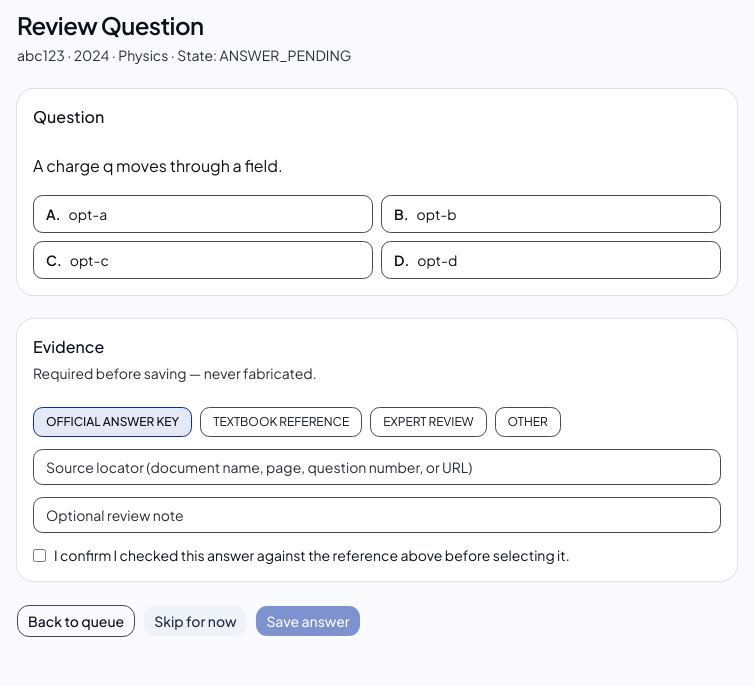
Test: PyqAnswerReviewDetailPage › requires selecting an option and confirming source consultation before Save is enabled
The width and height of the screenshot is (755, 686).
Expected: the button with test id "option-A" is shown, [33, 195, 373, 233]
Expected: the button with test id "review-save-button" is disabled, [256, 605, 361, 637]
Click the button with test id "option-B". click: (437, 214)
box: [381, 195, 721, 233]
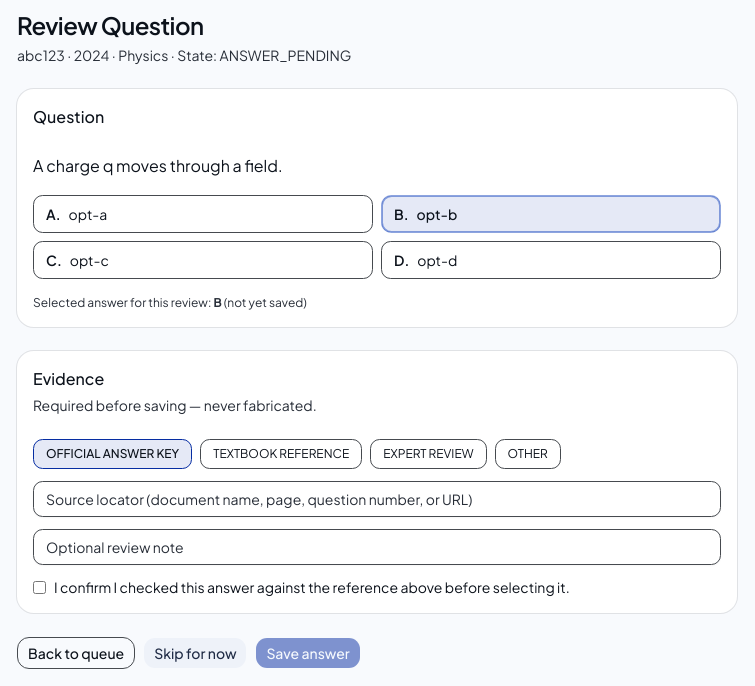
Expected: the button with test id "review-save-button" is disabled, [256, 637, 361, 669]
Click the checkbox with test id "source-consulted-checkbox". click: (40, 587)
box: [33, 580, 46, 594]
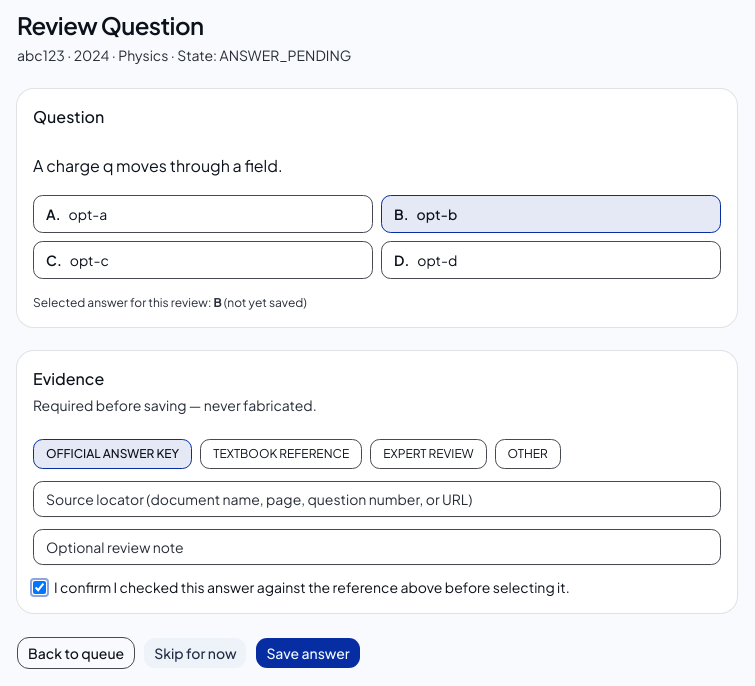
Result: the button with test id "review-save-button" is enabled at [256, 637, 361, 669]
